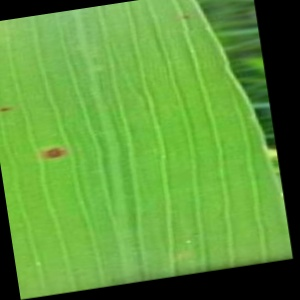Bacterial_Leaf_Blight: (39, 141, 71, 164), (178, 11, 193, 23), (0, 103, 16, 114)
